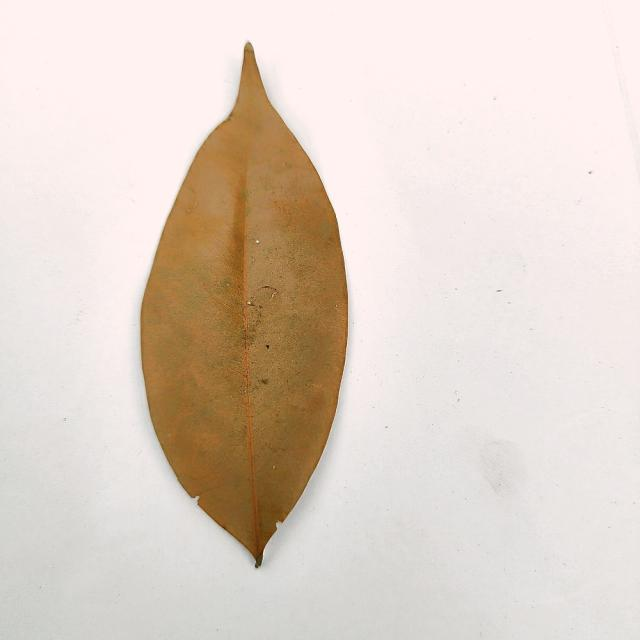Dry_Leaf-Lychee: (140, 44, 350, 568)
